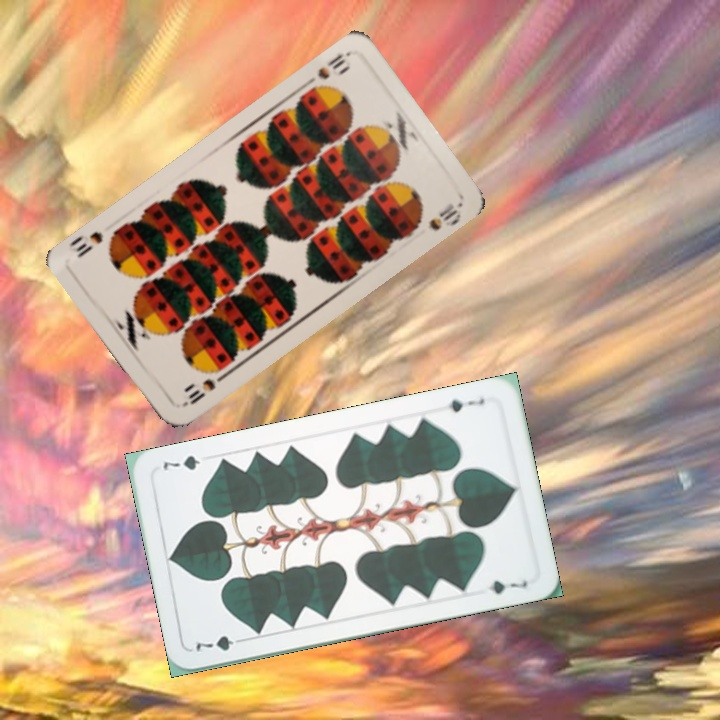G7: (190, 631, 249, 654), (444, 394, 487, 415)
S10: (301, 47, 353, 94), (178, 374, 219, 410)
